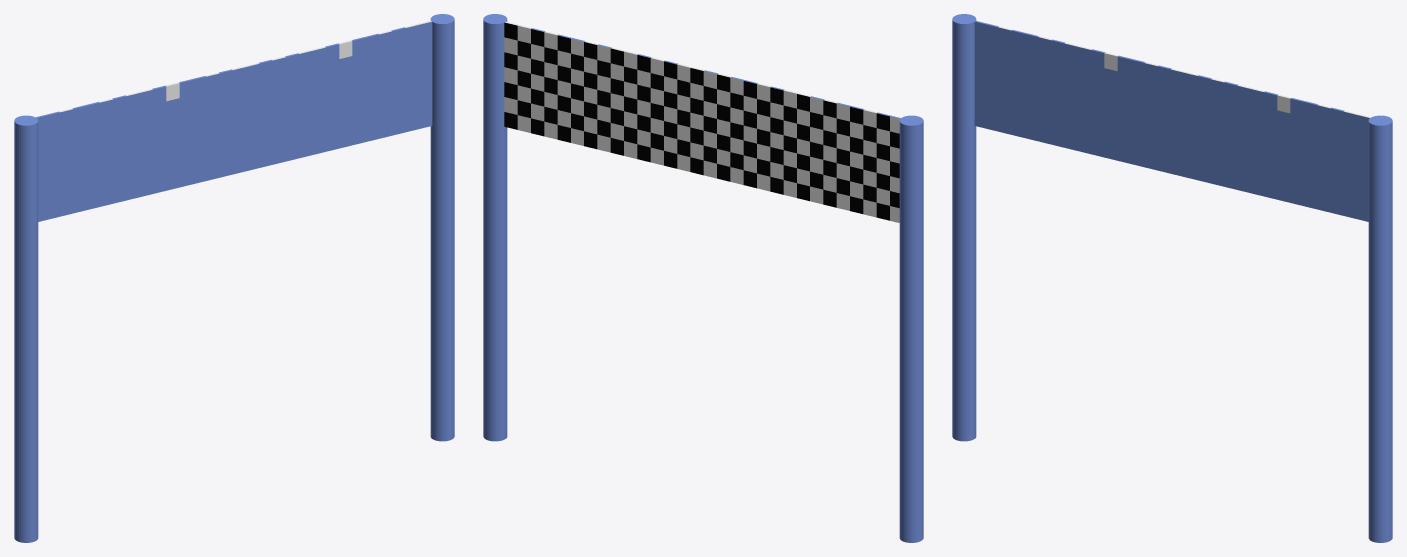
The model's file is Ending.fbx.
3 renders of one model, left to right at view 1: azimuth 30°, elevation 25°; view 2: azimuth 150°, elevation 25°; view 3: azimuth 330°, elevation 25°, orthographic.
Parts seen in each view (by area): view 1: Cylinder; view 2: Cylinder; view 3: Cylinder.
Boxes of the visible parts, left/top/right/bottom form: Cylinder: left=14, top=14, right=454, bottom=542; Cylinder: left=483, top=14, right=923, bottom=542; Cylinder: left=952, top=14, right=1392, bottom=542.
Size of the model in its own units: 674 by 615 by 32.19.
